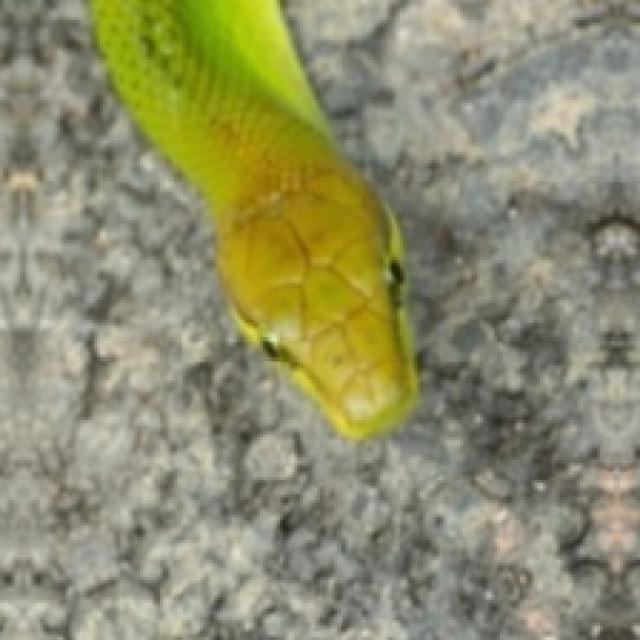red-tailed green ratsnake: (89, 0, 414, 437), (91, 0, 414, 437)
